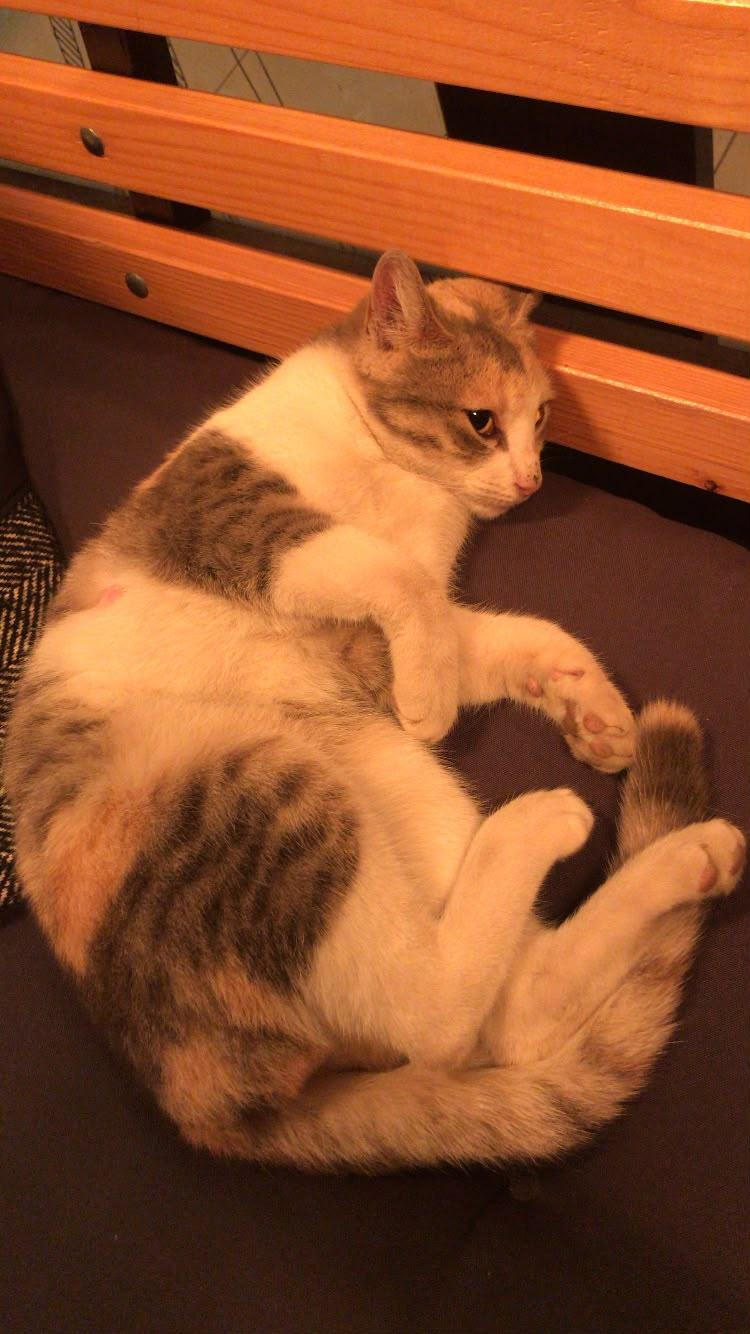macka: (9, 246, 749, 1158)
